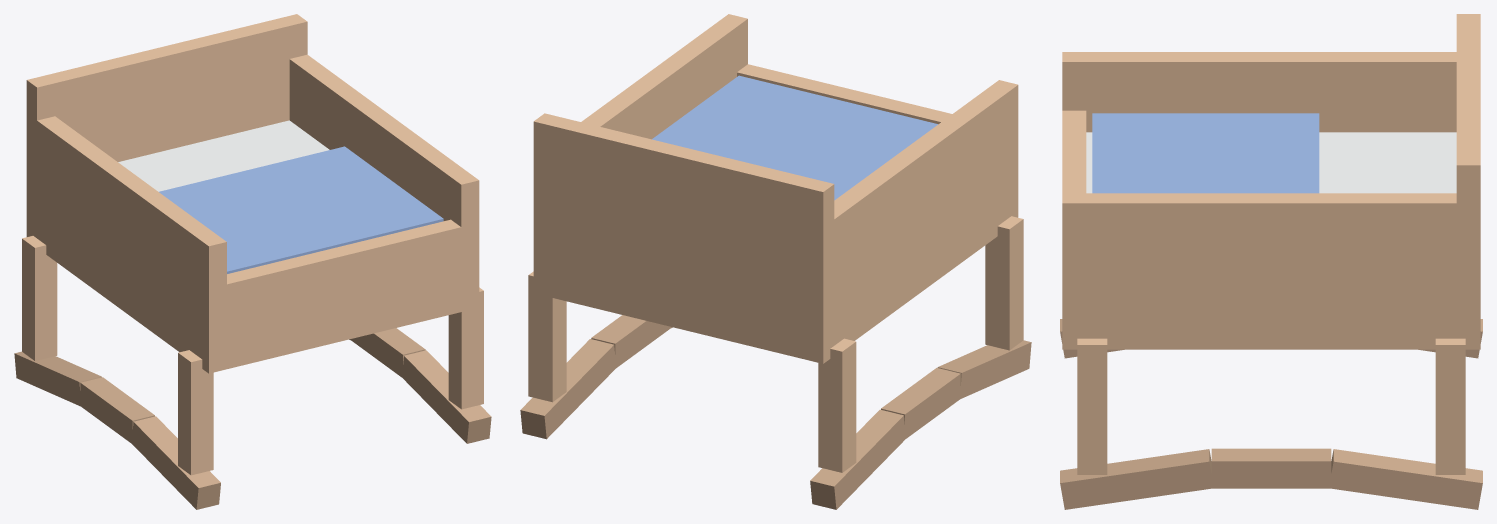
File: cradleRocking.glb
The picture shows the model from 3 angles, left to right: view 1: azimuth 30°, elevation 25°; view 2: azimuth 150°, elevation 25°; view 3: azimuth 270°, elevation 25°; orthographic projection. The views are drawn at different scales.
Parts seen in each view (by area): view 1: cradleRocking; view 2: cradleRocking; view 3: cradleRocking.
Part boxes in pixels (x1,y1,x2,y2): cradleRocking: [14, 14, 491, 509]; cradleRocking: [520, 14, 1031, 509]; cradleRocking: [1060, 14, 1482, 509].
Bounding box in the file's own units: 0.325 × 0.3123 × 0.3539.
